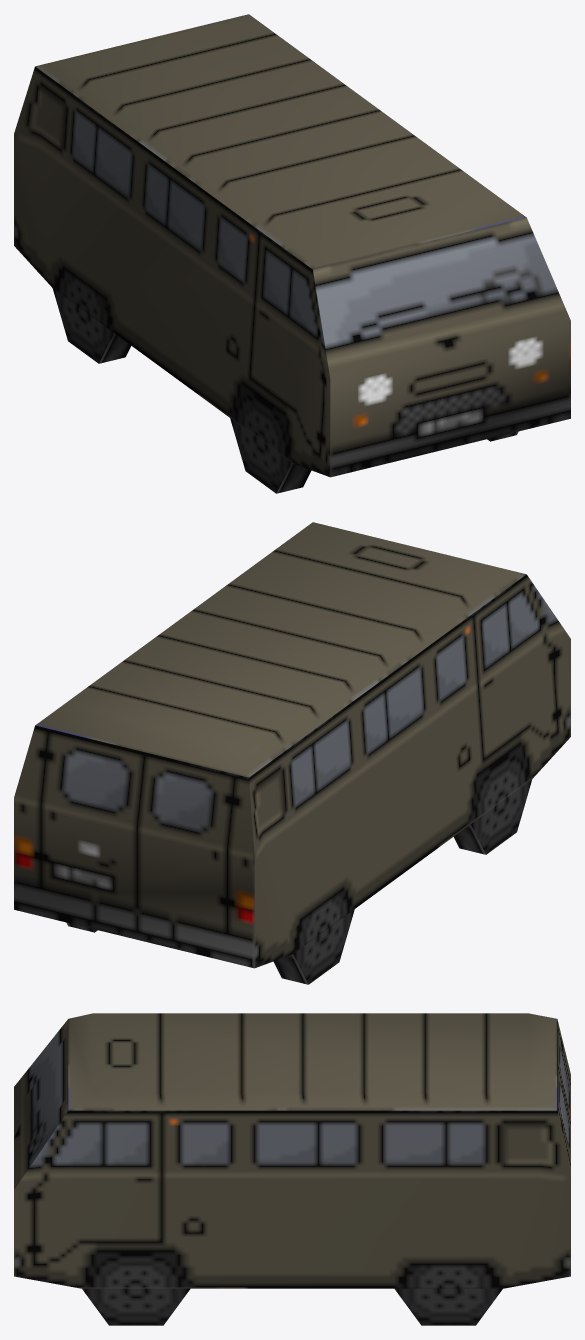
Rendered from buhanka.obj.
3 renders of one model, top to bottom at view 1: azimuth 30°, elevation 25°; view 2: azimuth 150°, elevation 25°; view 3: azimuth 270°, elevation 25°, orthographic. The views are drawn at different scales.
Parts seen in each view (by area): view 1: Regroup01; view 2: Regroup01; view 3: Regroup01.
Part boxes in pixels (bbox=[...]): Regroup01: bbox=[14, 14, 570, 493]; Regroup01: bbox=[14, 522, 570, 984]; Regroup01: bbox=[14, 1013, 570, 1325].
Size of the model in its own units: 18 by 17.92 by 41.
1 material, 1 textured.
